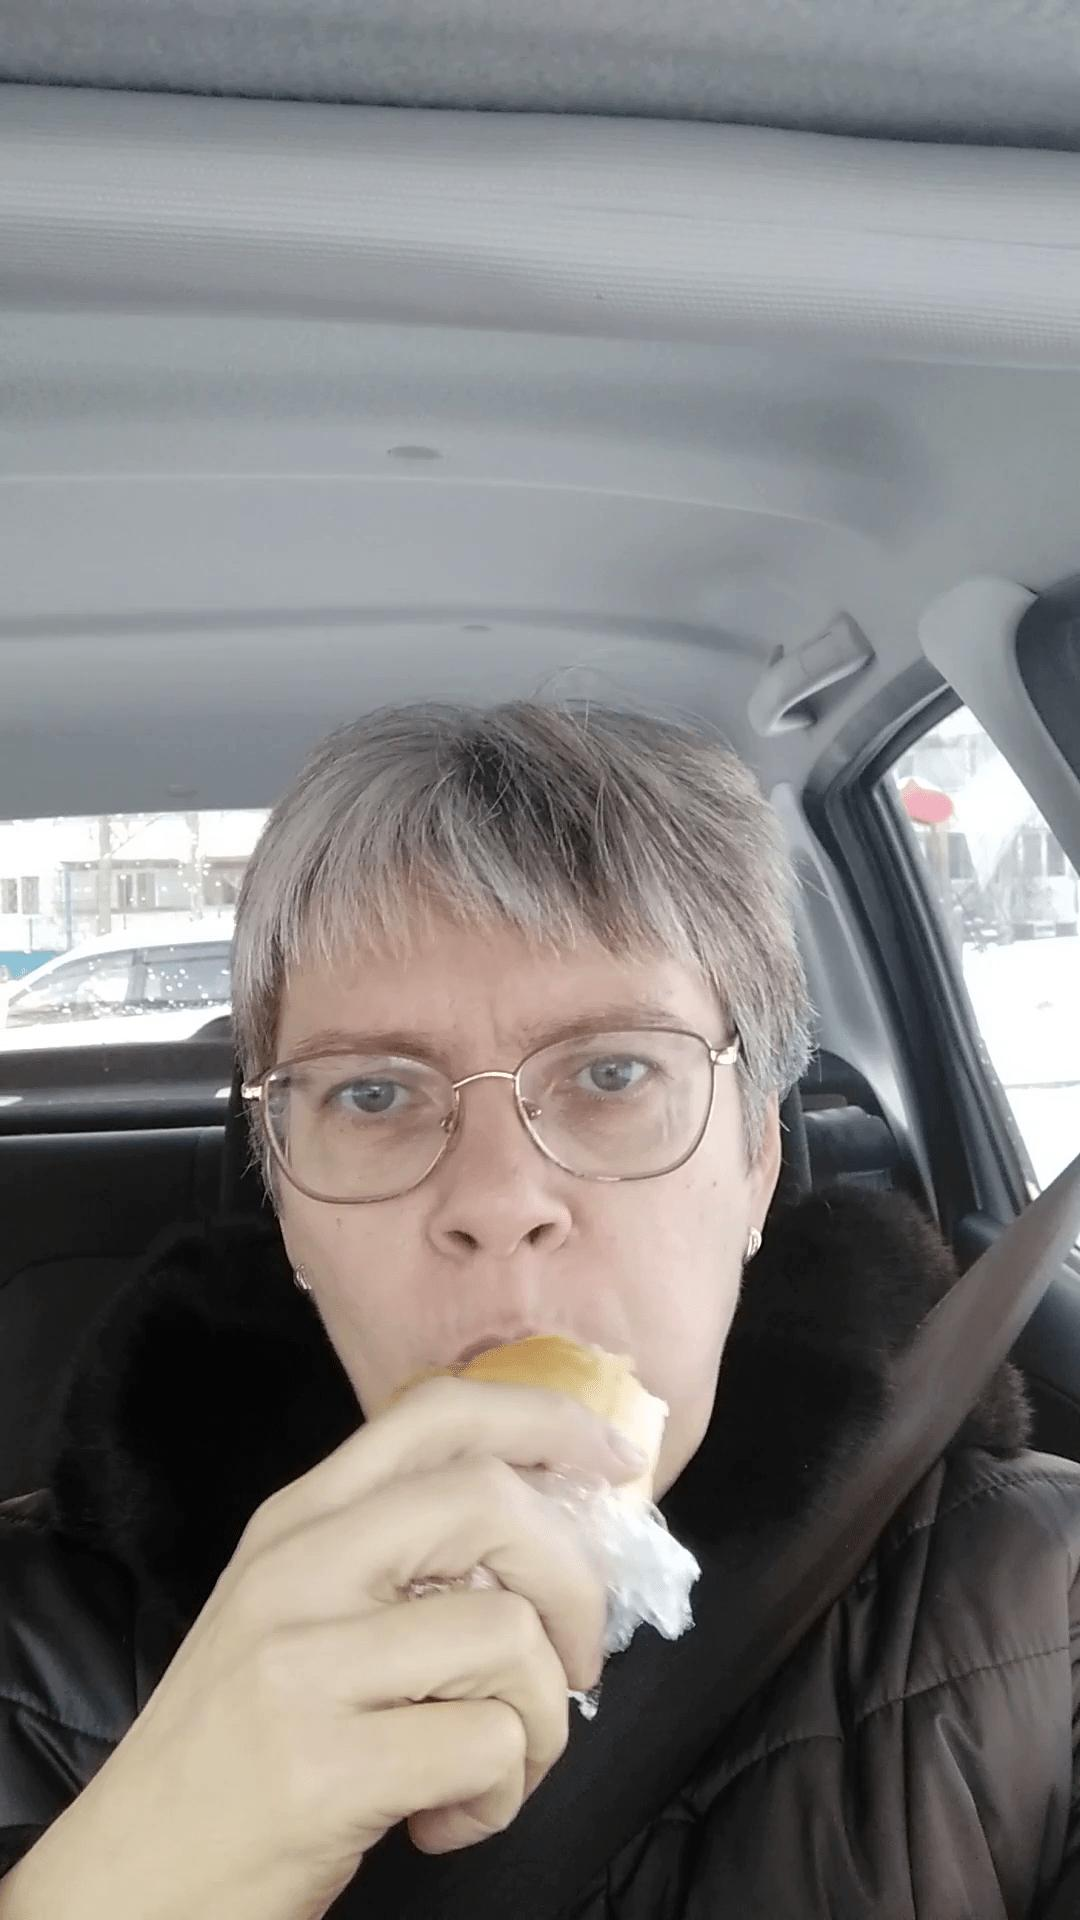Eating: (421, 1295, 731, 1735)
